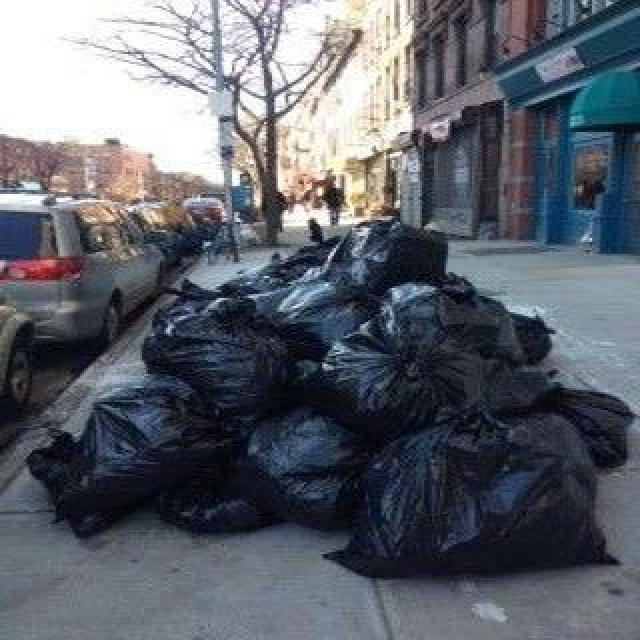Trashbag: (347, 411, 601, 594), (58, 392, 234, 508), (331, 310, 477, 430), (148, 290, 285, 404), (249, 411, 360, 517), (326, 218, 456, 288)
